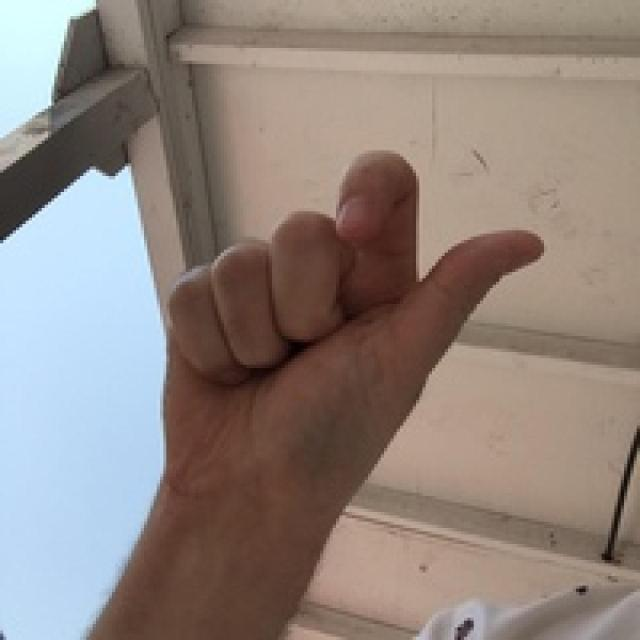T: (104, 106, 600, 590)
